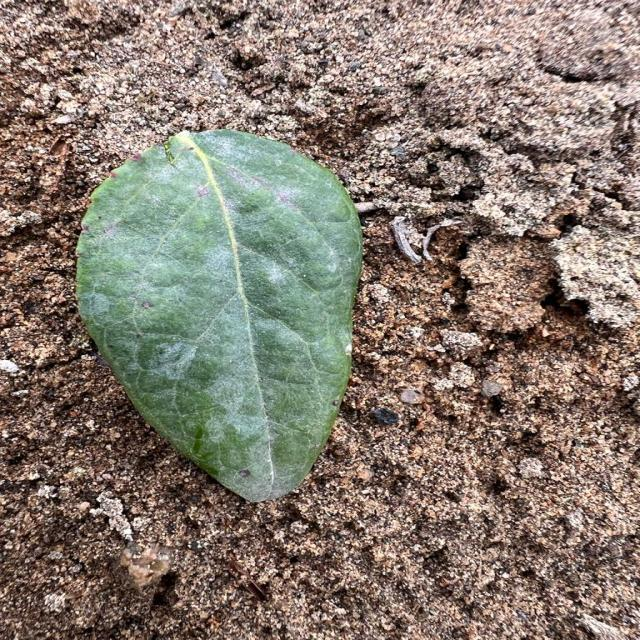Hojas con oidiosis: (100, 150, 364, 490)
